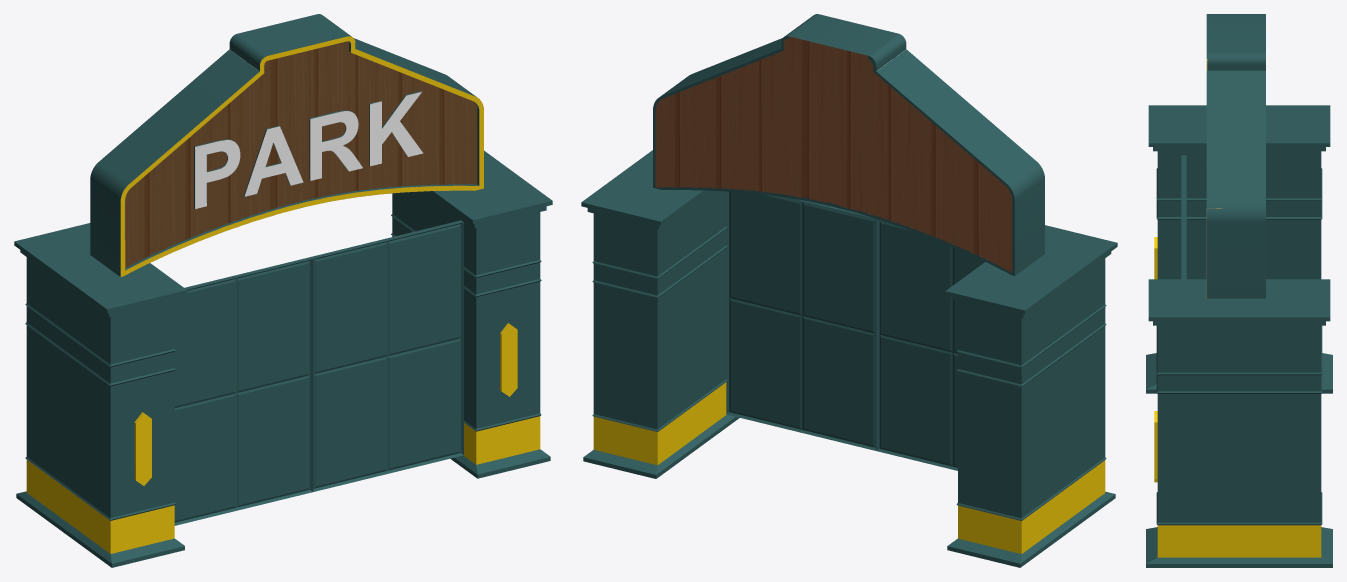
Rendered from ENV0410002.FBX.
The picture shows the model from 3 angles, left to right: view 1: azimuth 30°, elevation 25°; view 2: azimuth 150°, elevation 25°; view 3: azimuth 270°, elevation 25°; orthographic projection. The views are drawn at different scales.
Visible parts, largest first — view 1: smENV0410002; view 2: smENV0410002; view 3: smENV0410002.
Boxes of the visible parts, x1=… form: smENV0410002: x1=14, y1=14, x2=552, y2=567; smENV0410002: x1=581, y1=14, x2=1117, y2=567; smENV0410002: x1=1146, y1=14, x2=1332, y2=567.
Size of the model in its own units: 184 by 175 by 68.58.
Materials: 1 (1 with a texture image).
